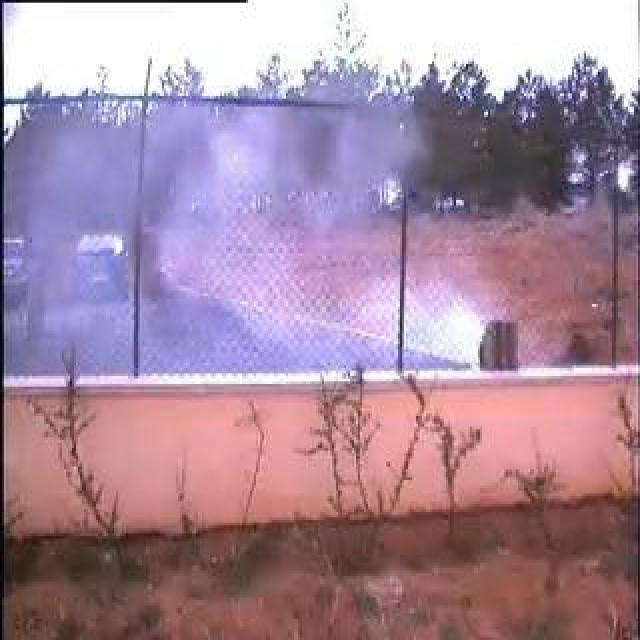Smoke: (194, 116, 482, 372)
